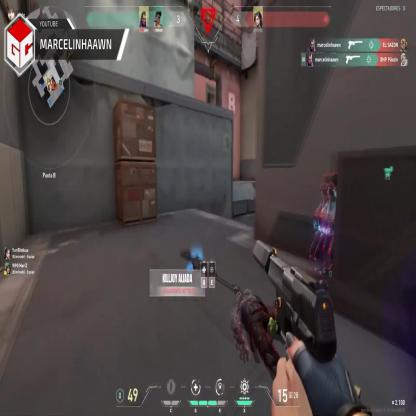enemy: (309, 171, 339, 283)
enemy_head: (324, 181, 335, 198)
